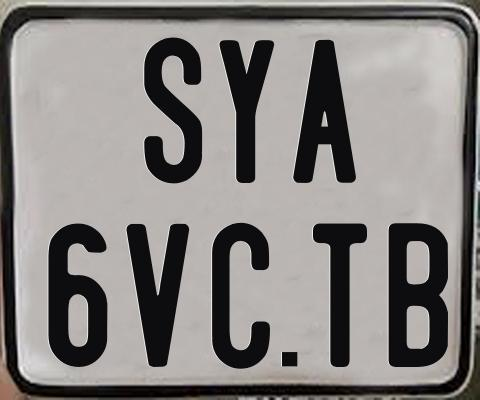6: (47, 220, 107, 370)
A: (292, 40, 357, 188)
B: (386, 223, 447, 370)
C: (211, 222, 274, 369)
S: (144, 35, 203, 188)
T: (313, 223, 372, 373)
V: (125, 222, 189, 365)
Y: (219, 37, 275, 184)
